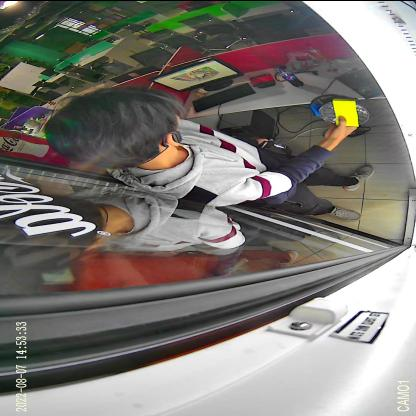blue: (310, 92, 358, 116)
yellow: (318, 97, 370, 126)
